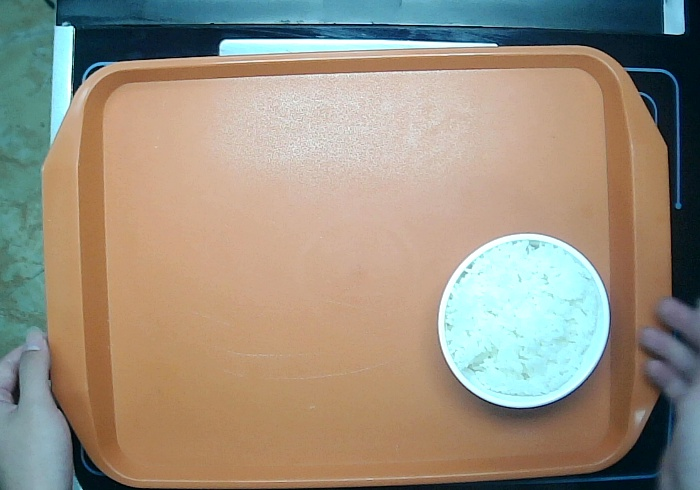HZYJPL-Fan_Wan: (434, 228, 614, 411)
